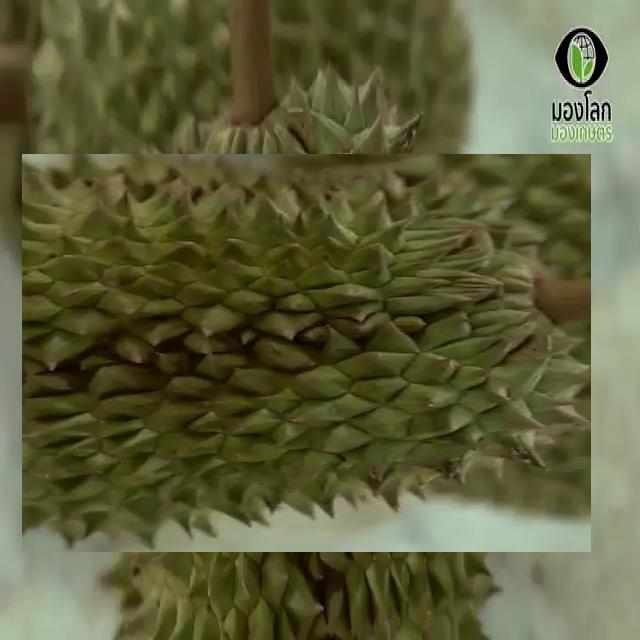durian: (64, 111, 548, 595)
